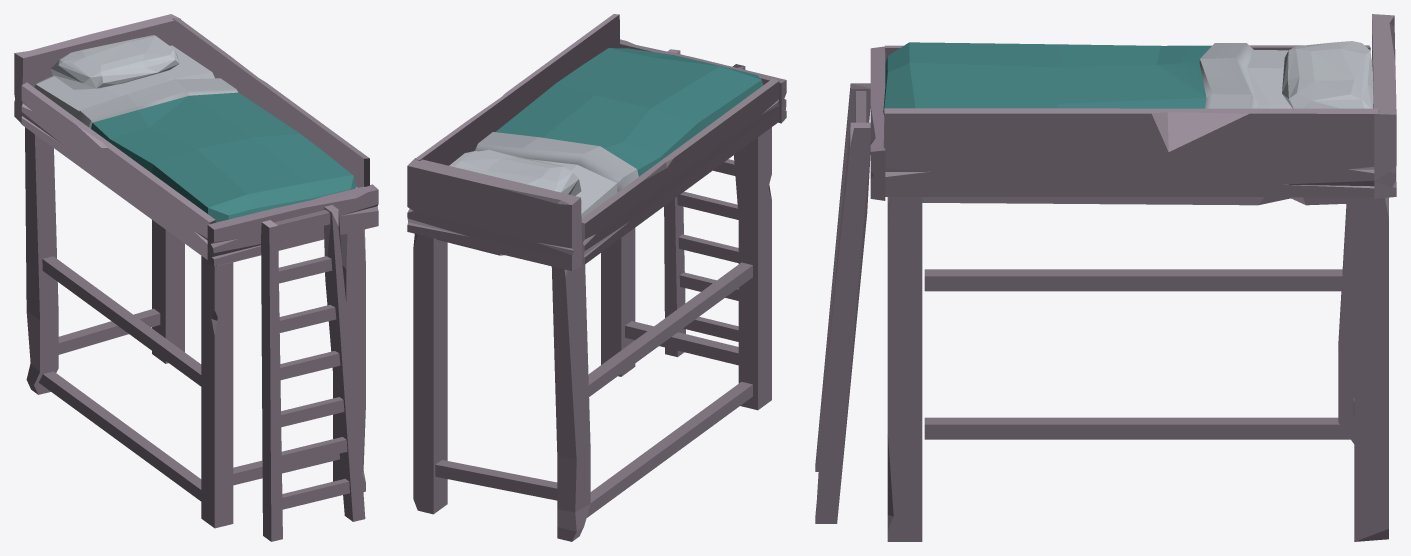
Rendered from Bed_High_bleu.fbx.
3 renders of one model, left to right at view 1: azimuth 30°, elevation 25°; view 2: azimuth 150°, elevation 25°; view 3: azimuth 270°, elevation 25°, orthographic. The views are drawn at different scales.
Parts seen in each view (by area): view 1: Bed_High_bleu; view 2: Bed_High_bleu; view 3: Bed_High_bleu.
Part boxes in pixels (x1,y1,x2,y2): Bed_High_bleu: [14, 14, 378, 541]; Bed_High_bleu: [407, 14, 786, 541]; Bed_High_bleu: [815, 14, 1396, 541].
Size of the model in its own units: 1.1 by 2.11 by 2.58.
1 material, 1 textured.
